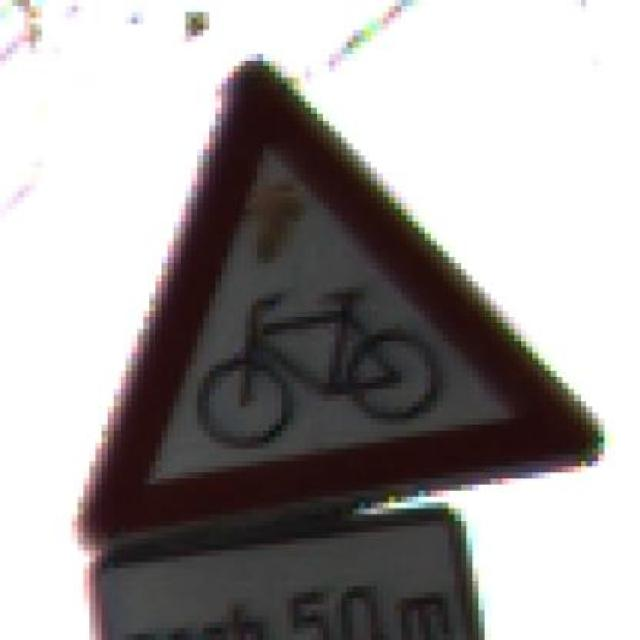CYCLE ROUTE AHEAD WARNING: (65, 42, 604, 544)
